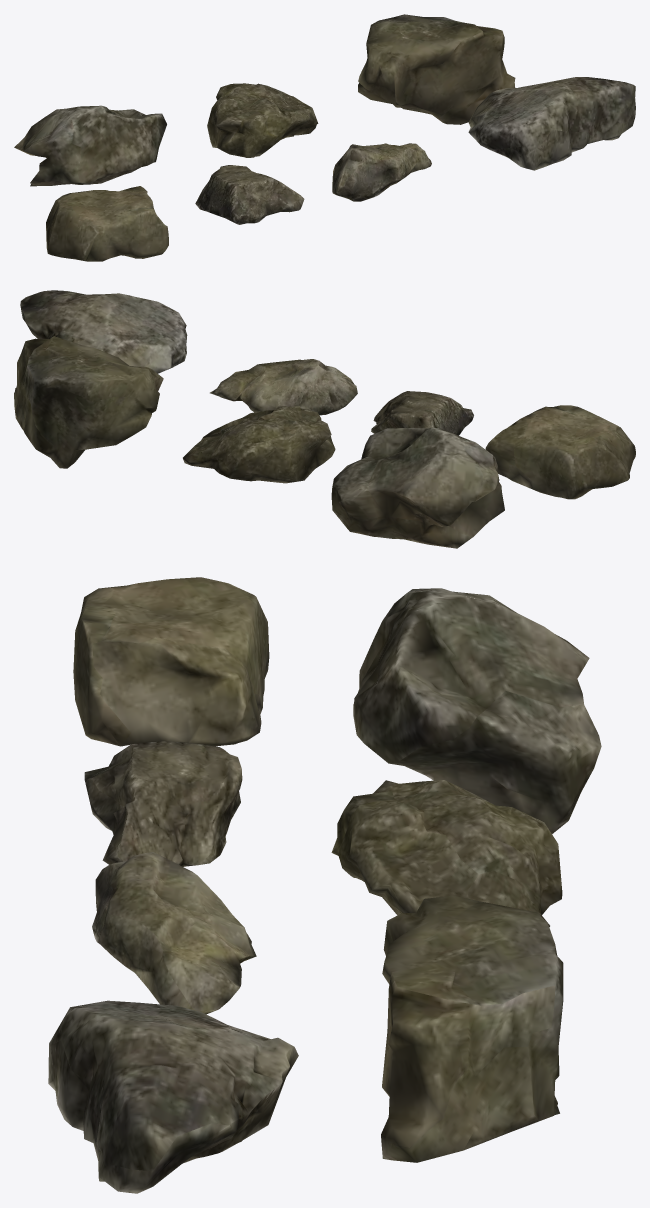
File: rock_moss_set_02.glb
3 views of the same model, one above another, from view 1: azimuth 30°, elevation 25°; view 2: azimuth 150°, elevation 25°; view 3: azimuth 270°, elevation 25° (orthographic). The views are drawn at different scales.
Parts seen in each view (by area): view 1: rock_moss_set_02_rock13, rock_moss_set_02_rock10, rock_moss_set_02_rock11, rock_moss_set_02_rock07, rock_moss_set_02_rock12, rock_moss_set_02_rock08, rock_moss_set_02_rock09; view 2: rock_moss_set_02_rock11, rock_moss_set_02_rock13, rock_moss_set_02_rock07, rock_moss_set_02_rock10, rock_moss_set_02_rock12, rock_moss_set_02_rock09, rock_moss_set_02_rock08; view 3: rock_moss_set_02_rock11, rock_moss_set_02_rock13, rock_moss_set_02_rock10, rock_moss_set_02_rock07, rock_moss_set_02_rock12, rock_moss_set_02_rock09, rock_moss_set_02_rock08.
Boxes of the visible parts, x1,y1,x2,y2 form: rock_moss_set_02_rock13: (358, 14, 515, 124); rock_moss_set_02_rock10: (468, 77, 635, 170); rock_moss_set_02_rock11: (14, 105, 166, 186); rock_moss_set_02_rock07: (46, 186, 168, 261); rock_moss_set_02_rock12: (207, 83, 318, 157); rock_moss_set_02_rock08: (195, 165, 304, 224); rock_moss_set_02_rock09: (332, 143, 431, 201); rock_moss_set_02_rock11: (331, 427, 504, 548); rock_moss_set_02_rock13: (14, 336, 163, 468); rock_moss_set_02_rock07: (485, 405, 635, 499); rock_moss_set_02_rock10: (20, 290, 187, 373); rock_moss_set_02_rock12: (183, 406, 335, 483); rock_moss_set_02_rock09: (210, 359, 357, 415); rock_moss_set_02_rock08: (371, 391, 473, 435); rock_moss_set_02_rock11: (353, 588, 601, 833); rock_moss_set_02_rock13: (381, 895, 563, 1162); rock_moss_set_02_rock10: (48, 1000, 298, 1193); rock_moss_set_02_rock07: (73, 577, 269, 746); rock_moss_set_02_rock12: (331, 780, 562, 926); rock_moss_set_02_rock09: (92, 852, 256, 1014); rock_moss_set_02_rock08: (84, 741, 242, 866).
Size of the model in its own units: 8.28 by 1.35 by 3.4.
1 material, 1 textured.
